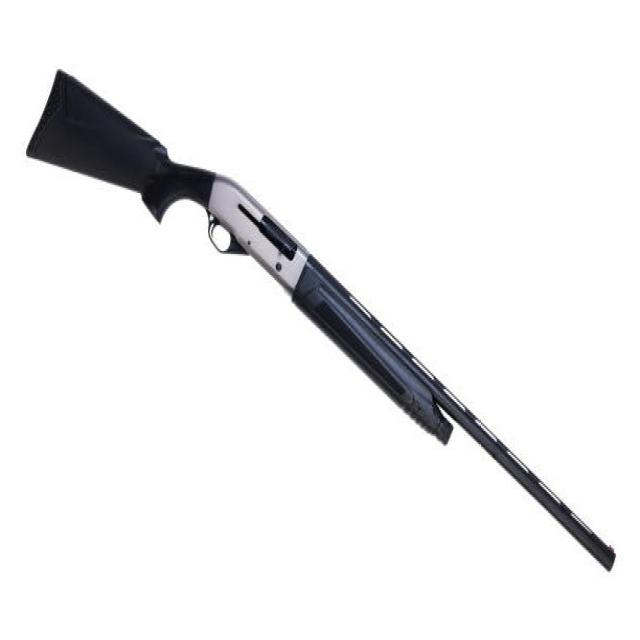rifle: (18, 64, 626, 593)
